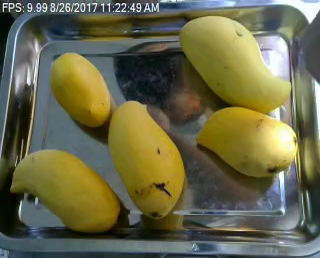Mango: (180, 16, 291, 110), (11, 149, 121, 231), (109, 101, 184, 219), (198, 104, 297, 178), (50, 51, 110, 127)
